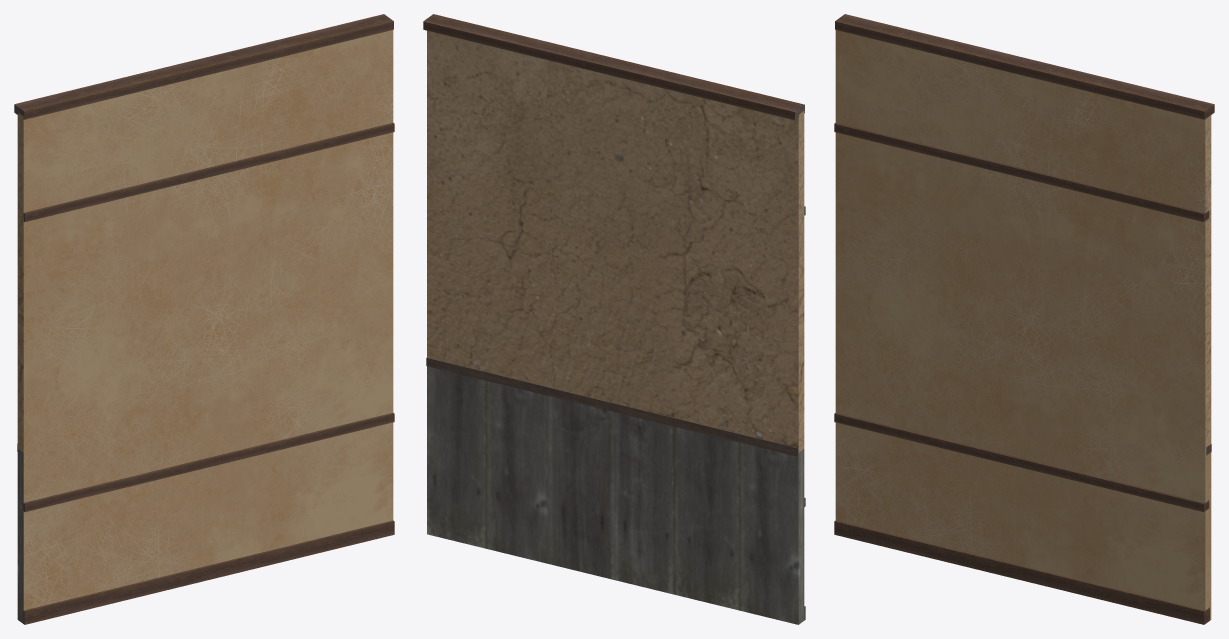
File: outwall02_1t.fbx
3 renders of one model, left to right at view 1: azimuth 30°, elevation 25°; view 2: azimuth 150°, elevation 25°; view 3: azimuth 330°, elevation 25°, orthographic.
Parts seen in each view (by area): view 1: outwall02_1t; view 2: outwall02_1t; view 3: outwall02_1t.
Part boxes in pixels (x1=…): outwall02_1t: x1=14, y1=14, x2=394, y2=624; outwall02_1t: x1=423, y1=14, x2=805, y2=624; outwall02_1t: x1=834, y1=14, x2=1214, y2=624.
Size of the model in its own units: 220 by 292 by 11.05.
